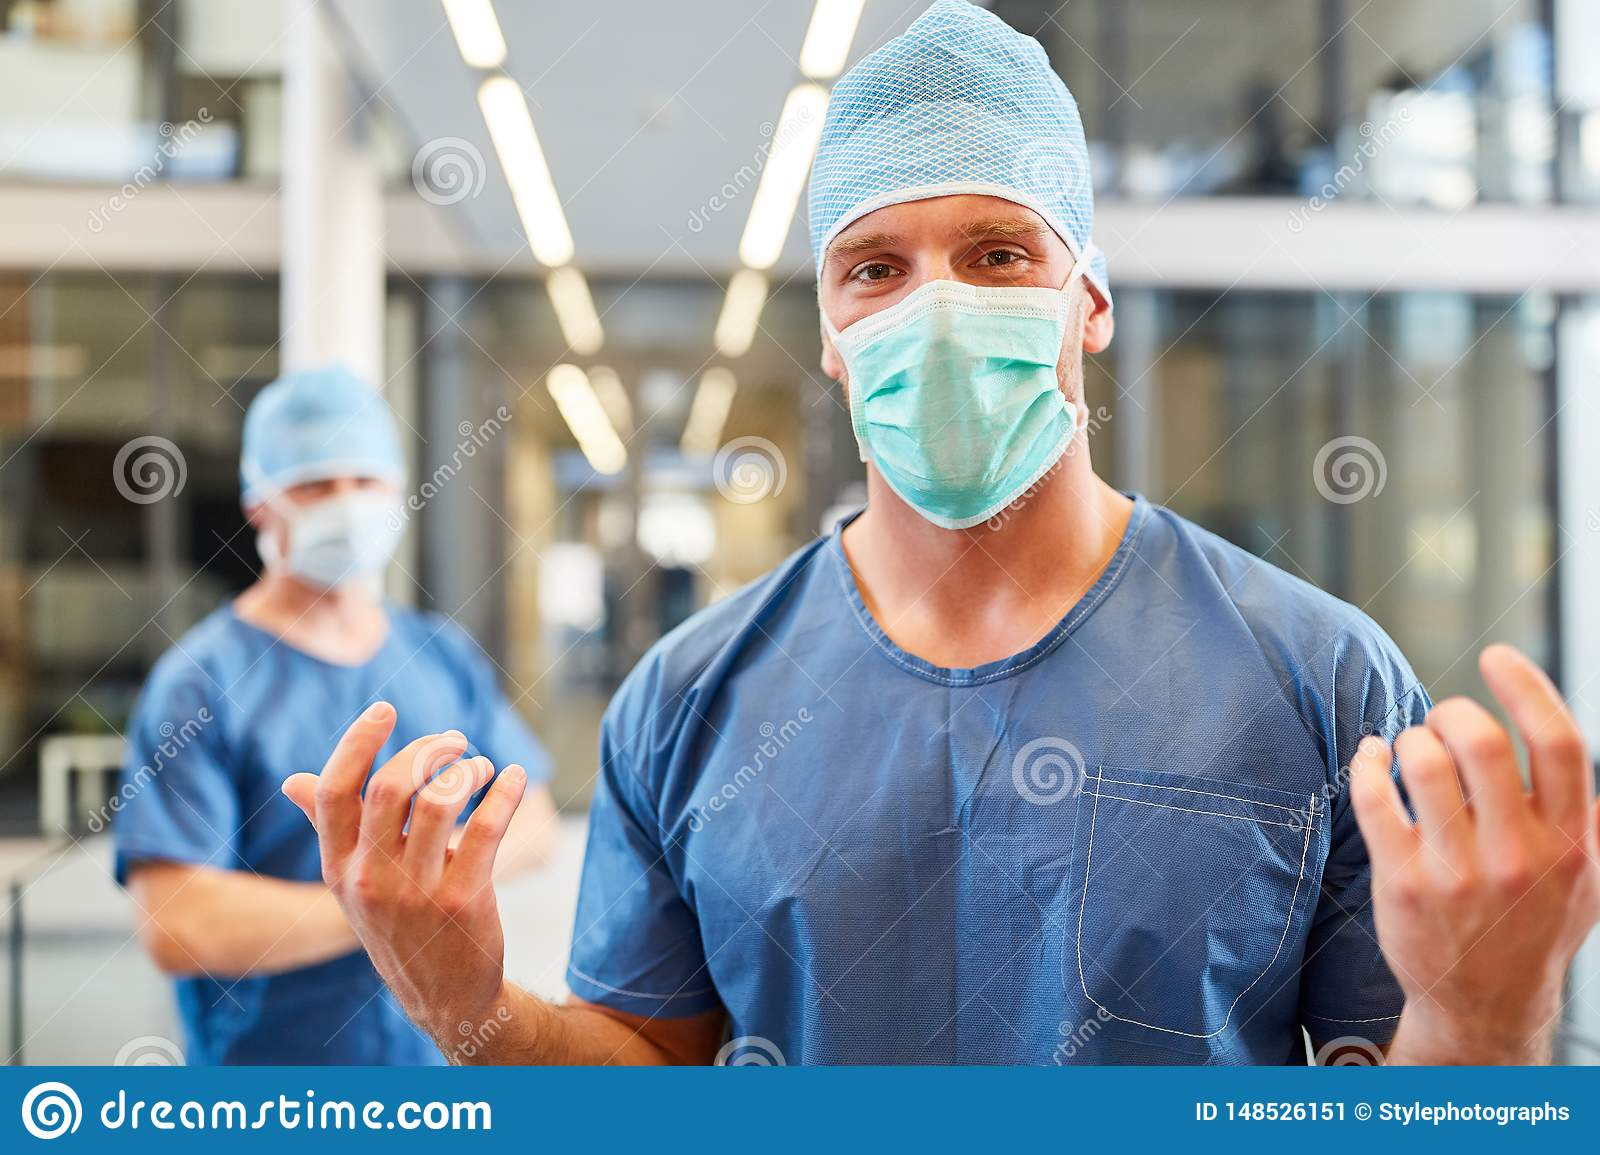mask: (816, 301, 1098, 535)
